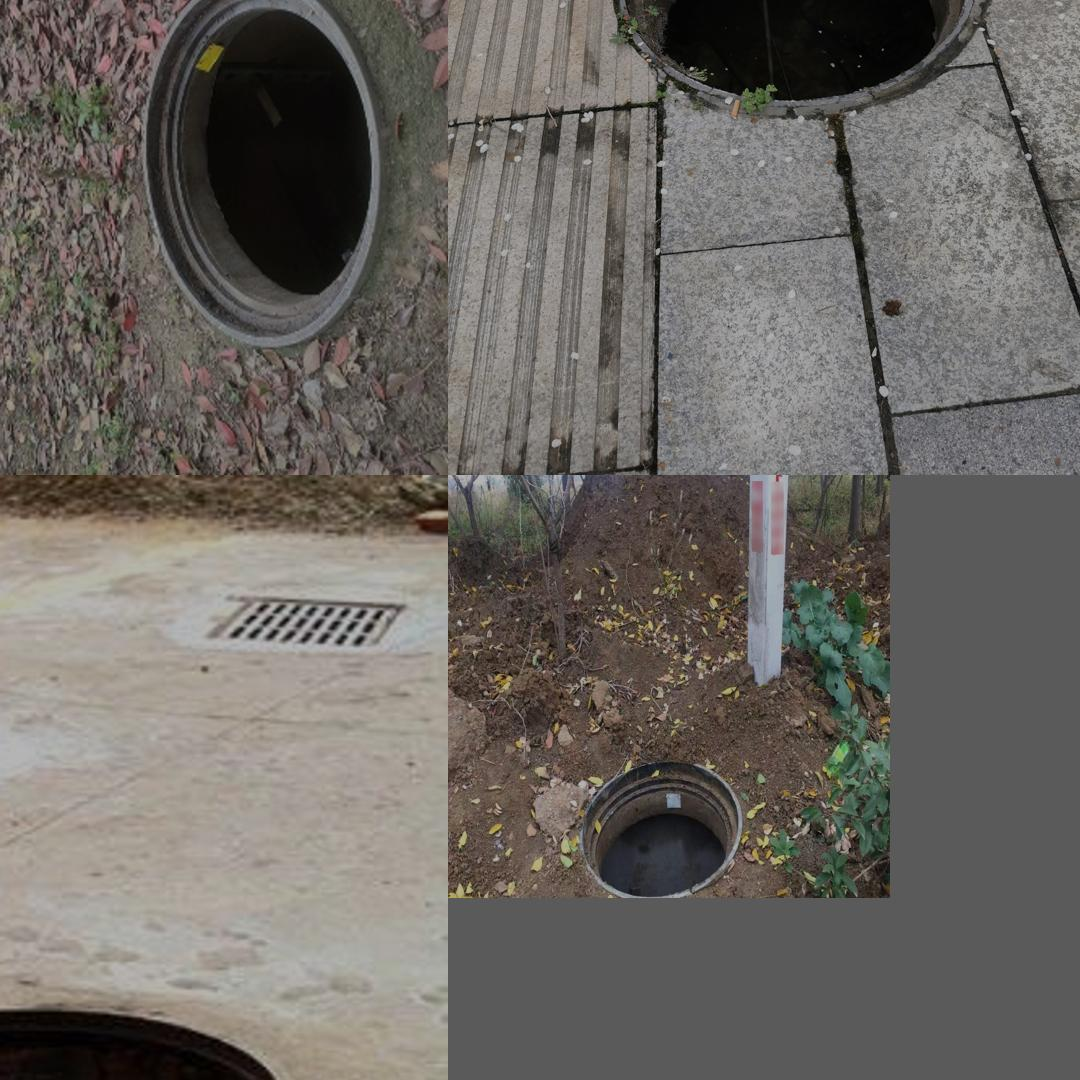lose: (140, 0, 381, 347), (614, 0, 976, 115), (0, 959, 295, 1080), (548, 744, 751, 897)
